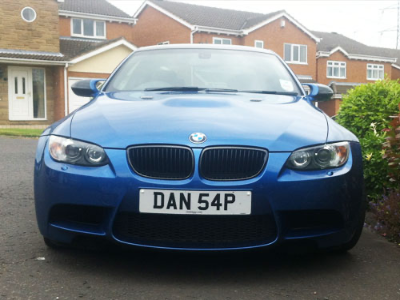licence: (139, 187, 251, 216)
